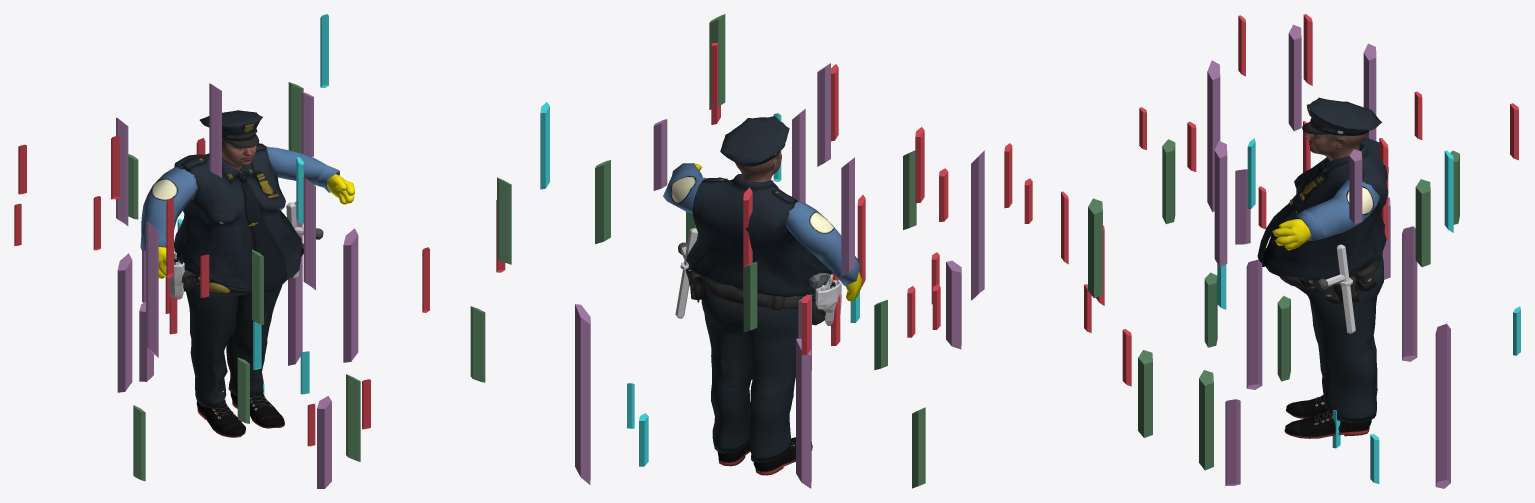
The model's file is JefeGorgoryGlitch3.obj.
3 renders of one model, left to right at view 1: azimuth 30°, elevation 25°; view 2: azimuth 150°, elevation 25°; view 3: azimuth 270°, elevation 25°, orthographic. The views are drawn at different scales.
Parts seen in each view (by area): view 1: dikkewout_002, Gl1, Gl004, Cylinder_006, Cylinder_007, Brazo_Derecho001, Gl003, Gl2, Brazo_Izquierdo001, Cylinder_000, Cylinder_008; view 2: dikkewout_002, Gl004, Gl1, Cylinder_007, Gl2, Gl003, Brazo_Derecho001, Cylinder_006, Cylinder_000, Brazo_Izquierdo001, Object007, Object006 (+1 smaller); view 3: dikkewout_002, Gl1, Gl004, Cylinder_006, Cylinder_007, Brazo_Izquierdo001, Gl2, Gl003, Cylinder_000, Cylinder_008, Object006.
Part boxes in pixels (bbox=[...]): dikkewout_002: bbox=[174, 110, 303, 437]; Gl1: bbox=[117, 201, 358, 488]; Gl004: bbox=[116, 83, 315, 357]; Cylinder_006: bbox=[288, 82, 511, 461]; Cylinder_007: bbox=[128, 154, 263, 481]; Brazo_Derecho001: bbox=[140, 167, 197, 278]; Gl003: bbox=[14, 196, 429, 446]; Gl2: bbox=[18, 135, 505, 429]; Brazo_Izquierdo001: bbox=[266, 147, 354, 204]; Cylinder_000: bbox=[253, 14, 328, 394]; Cylinder_008: bbox=[177, 157, 303, 394]; dikkewout_002: bbox=[685, 116, 832, 475]; Gl004: bbox=[653, 63, 984, 369]; Gl1: bbox=[575, 260, 961, 488]; Cylinder_007: bbox=[743, 150, 925, 488]; Gl2: bbox=[711, 43, 948, 354]; Gl003: bbox=[831, 64, 1032, 337]; Brazo_Derecho001: bbox=[786, 201, 862, 301]; Cylinder_006: bbox=[595, 14, 725, 244]; Cylinder_000: bbox=[540, 102, 859, 466]; Brazo_Izquierdo001: bbox=[663, 163, 707, 213]; Object007: bbox=[809, 273, 841, 325]; Object006: bbox=[675, 228, 698, 318]; dikkewout_002: bbox=[1257, 97, 1388, 438]; Gl1: bbox=[1225, 169, 1450, 488]; Gl004: bbox=[1207, 24, 1390, 279]; Cylinder_006: bbox=[1088, 179, 1430, 470]; Cylinder_007: bbox=[1162, 139, 1459, 381]; Brazo_Izquierdo001: bbox=[1272, 179, 1379, 250]; Gl2: bbox=[1096, 14, 1518, 386]; Gl003: bbox=[1061, 15, 1422, 332]; Cylinder_000: bbox=[1217, 150, 1453, 483]; Cylinder_008: bbox=[1247, 138, 1520, 448]; Object006: bbox=[1316, 244, 1355, 333].
Bounding box in the file's own units: 81.4 × 90.41 × 89.29.
